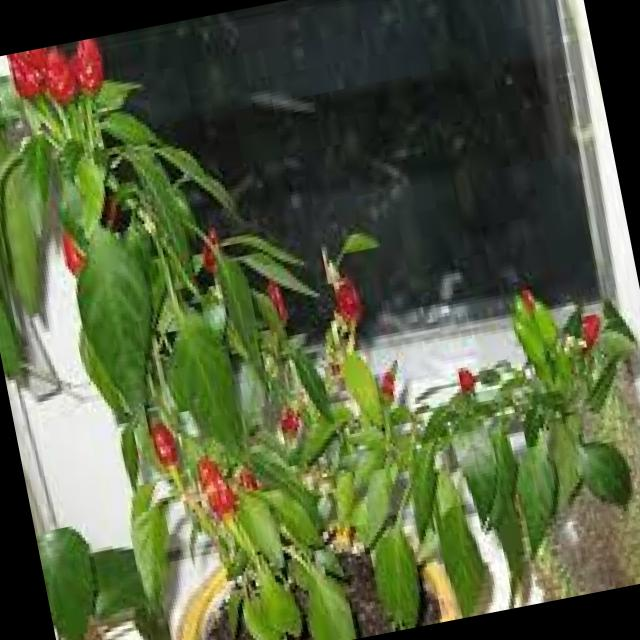hot pepper: (0, 35, 120, 130), (188, 445, 288, 544), (48, 211, 108, 298), (142, 414, 199, 491), (322, 274, 372, 344), (361, 339, 413, 405), (262, 384, 314, 447), (557, 296, 612, 354), (256, 269, 296, 343), (183, 216, 231, 276), (445, 352, 484, 406)
